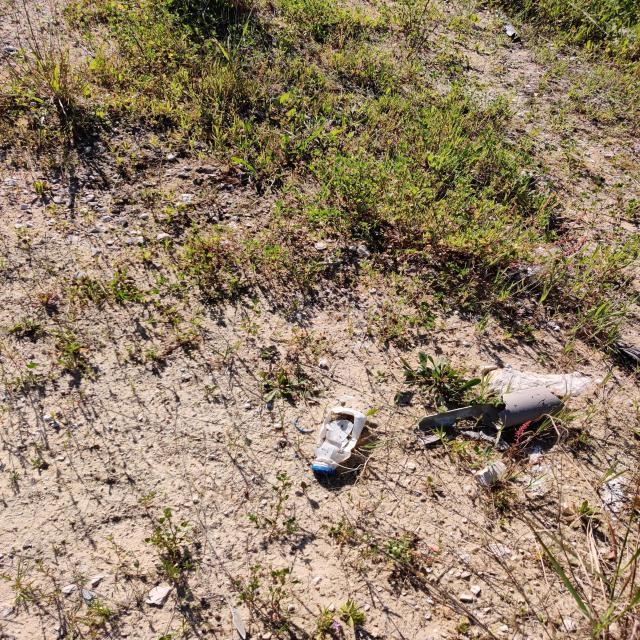litter: (280, 406, 377, 496)
